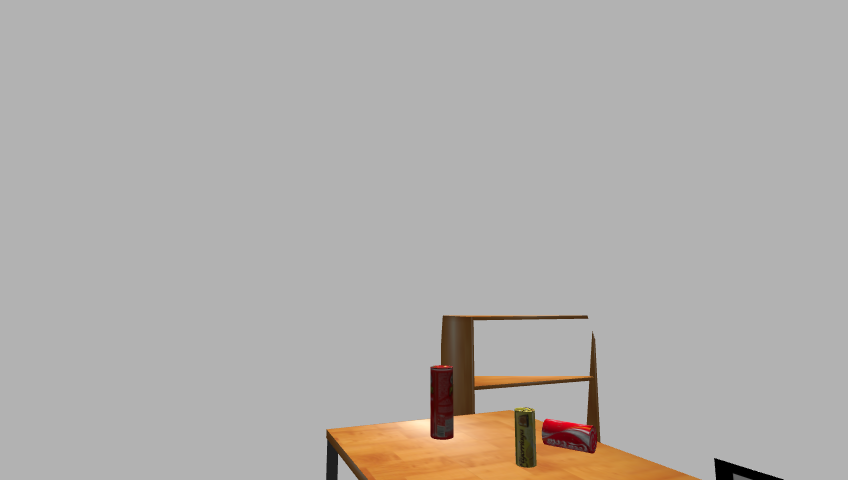aruco marker: (709, 457, 813, 480)
biscuits pack: (513, 407, 538, 469)
bookshelf: (435, 313, 602, 479)
coke can: (540, 419, 598, 455)
dinner table: (318, 412, 730, 480)
pringles can: (427, 364, 456, 441)
